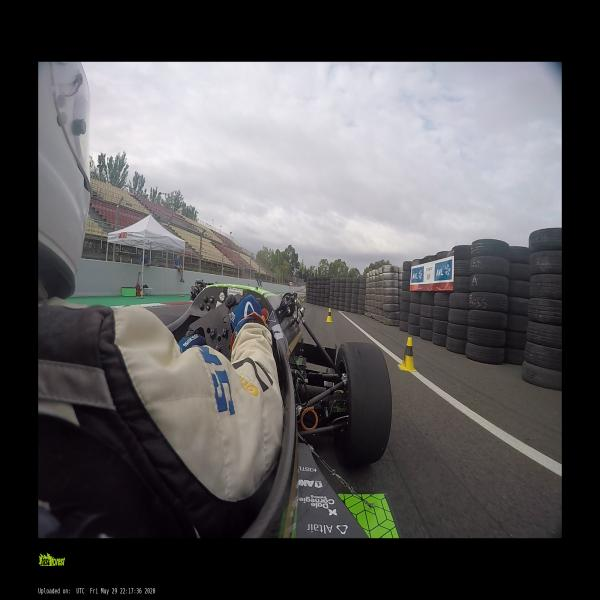yellow_cone: (397, 338, 416, 372), (325, 308, 332, 323), (302, 296, 304, 301)
